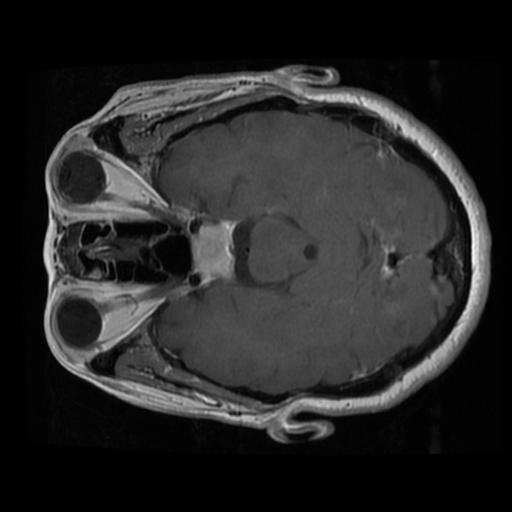pituitary tumour: (192, 220, 233, 281)
